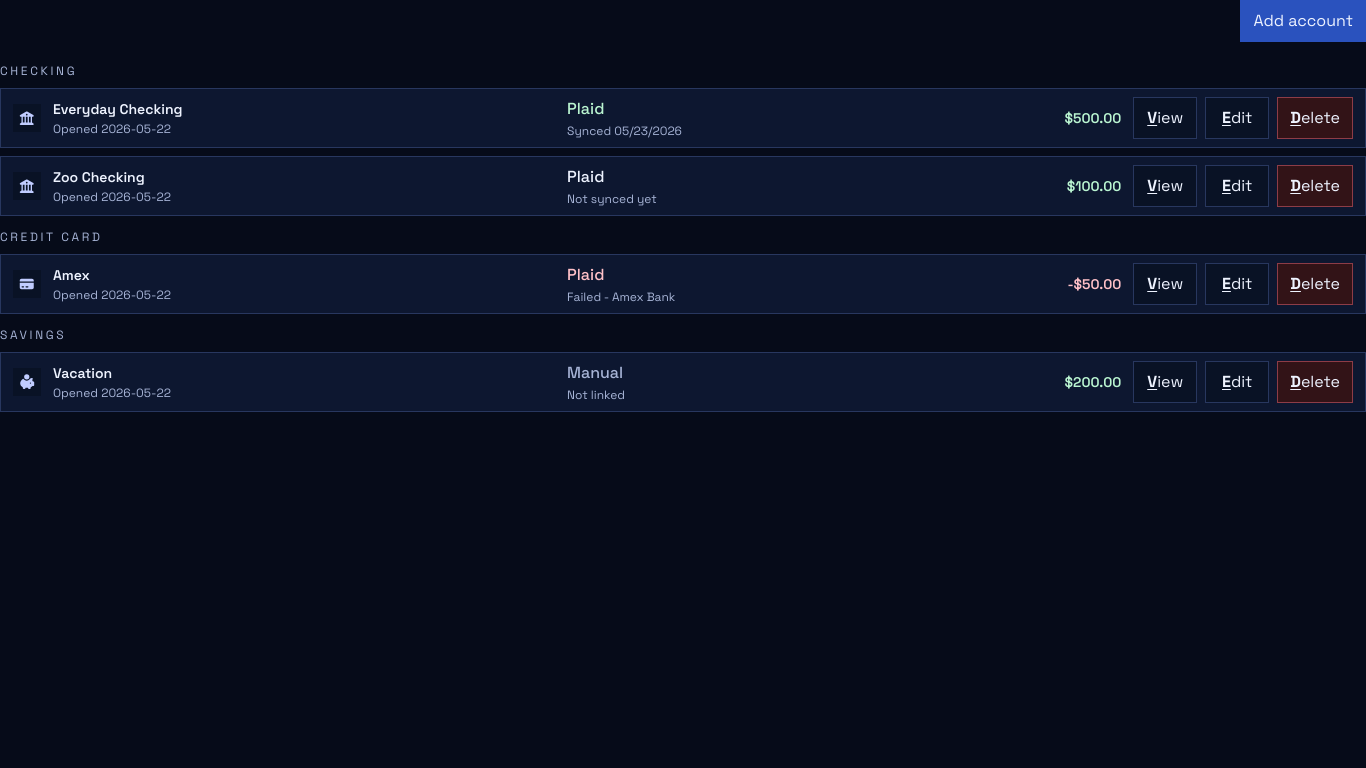
US2 account and transaction flows › groups accounts by type and keeps row actions scoped to the account
This screenshot has width=1366, height=768.
Expected: the text "Manual" is shown, [567, 362, 623, 383]
Expected: the text "Plaid" in the row of "$100.00" is shown, [567, 166, 604, 187]
Click the button named "Edit": (1237, 186) [1205, 165, 1269, 207]
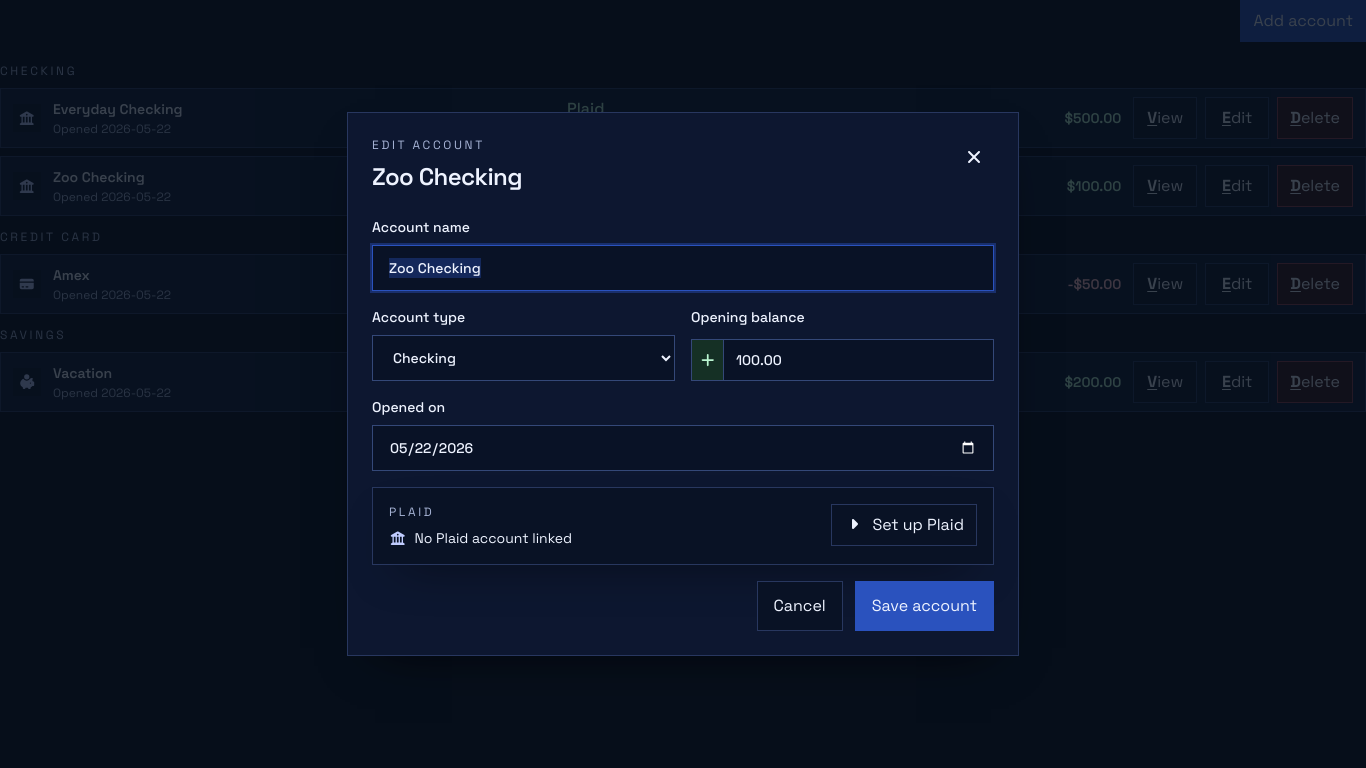
Expected: the dialog "Zoo Checking" is shown, [347, 112, 1019, 656]
